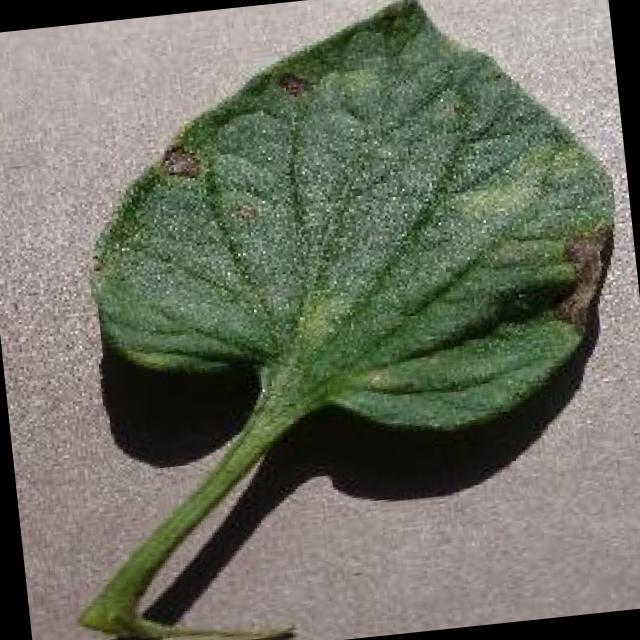Tomato_Early_Blight: (64, 0, 633, 399)
